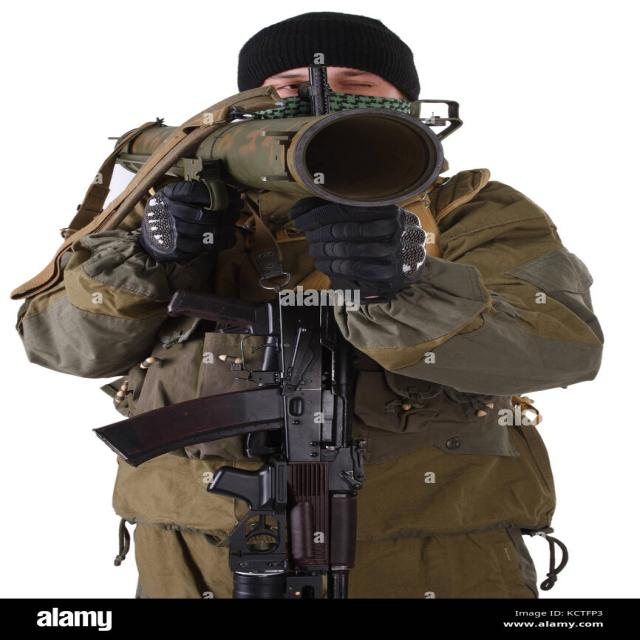bazooka: (95, 87, 461, 230)
